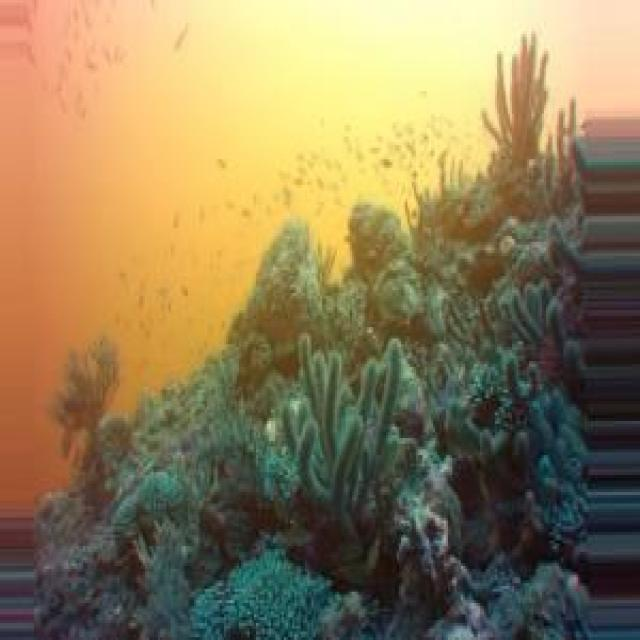Healthy: (33, 44, 594, 640), (276, 345, 426, 590), (479, 257, 592, 570), (234, 223, 370, 362), (187, 550, 336, 640), (483, 35, 573, 183), (351, 203, 432, 357), (466, 541, 586, 640), (131, 467, 214, 593)
